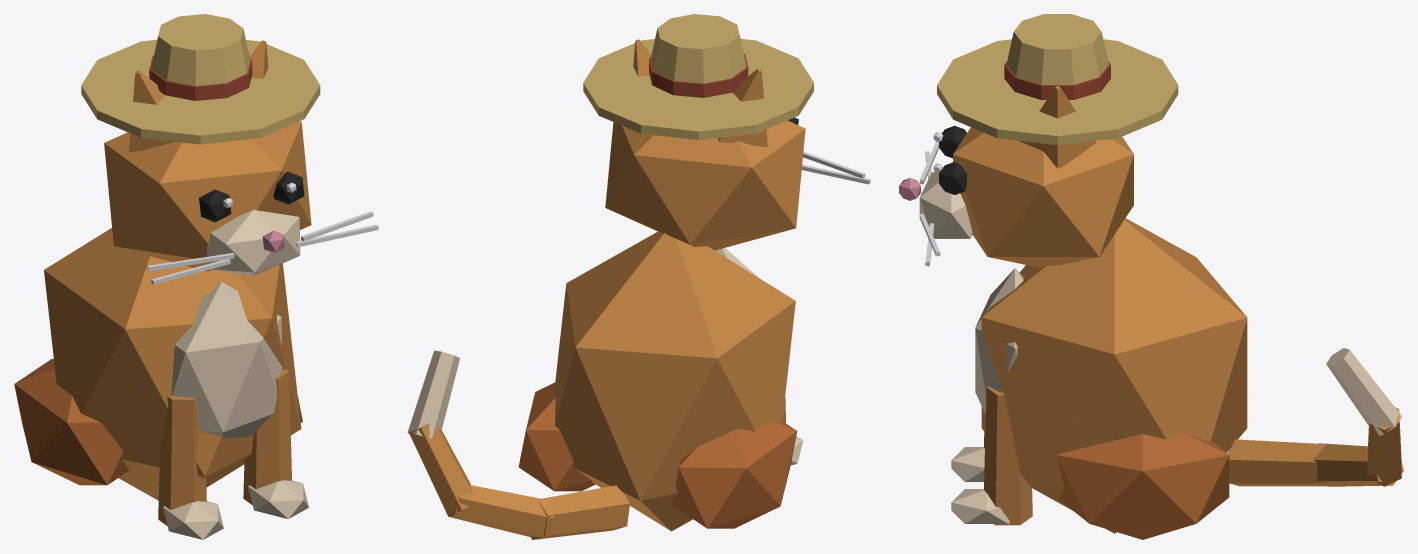
The model's file is cat.glb.
3 views of the same model, side by side, from view 1: azimuth 30°, elevation 25°; view 2: azimuth 150°, elevation 25°; view 3: azimuth 270°, elevation 25° (orthographic). The views are drawn at different scales.
Visible parts, largest first — view 1: cat; view 2: cat, cat_tail; view 3: cat, cat_tail.
Part boxes in pixels (<box>): cat: <box>14,14,378,539</box>; cat: <box>518,14,870,531</box>; cat_tail: <box>407,350,629,539</box>; cat: <box>899,14,1247,539</box>; cat_tail: <box>1227,348,1403,486</box>.
Size of the model in its own units: 0.4344 by 0.78 by 0.7107.
